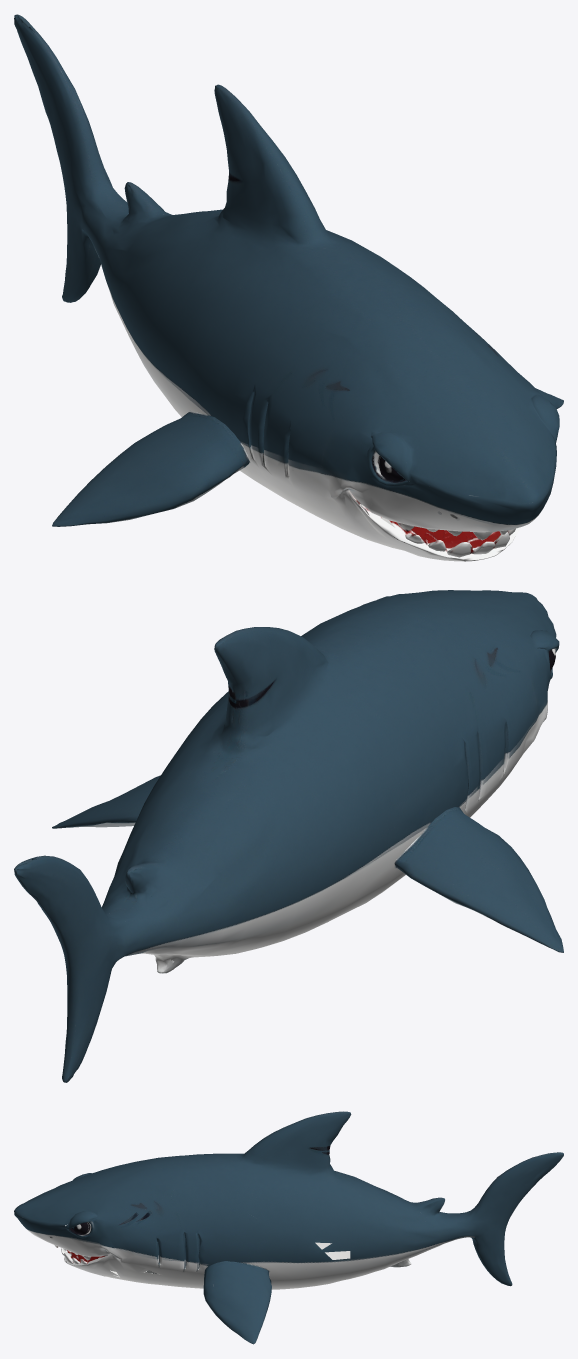
File: shark-reef.glb
3 renders of one model, top to bottom at view 1: azimuth 30°, elevation 25°; view 2: azimuth 150°, elevation 25°; view 3: azimuth 270°, elevation 25°, orthographic. The views are drawn at different scales.
Size of the model in its own units: 0.5415 by 0.332 by 0.9492.
1 material, 1 textured.
